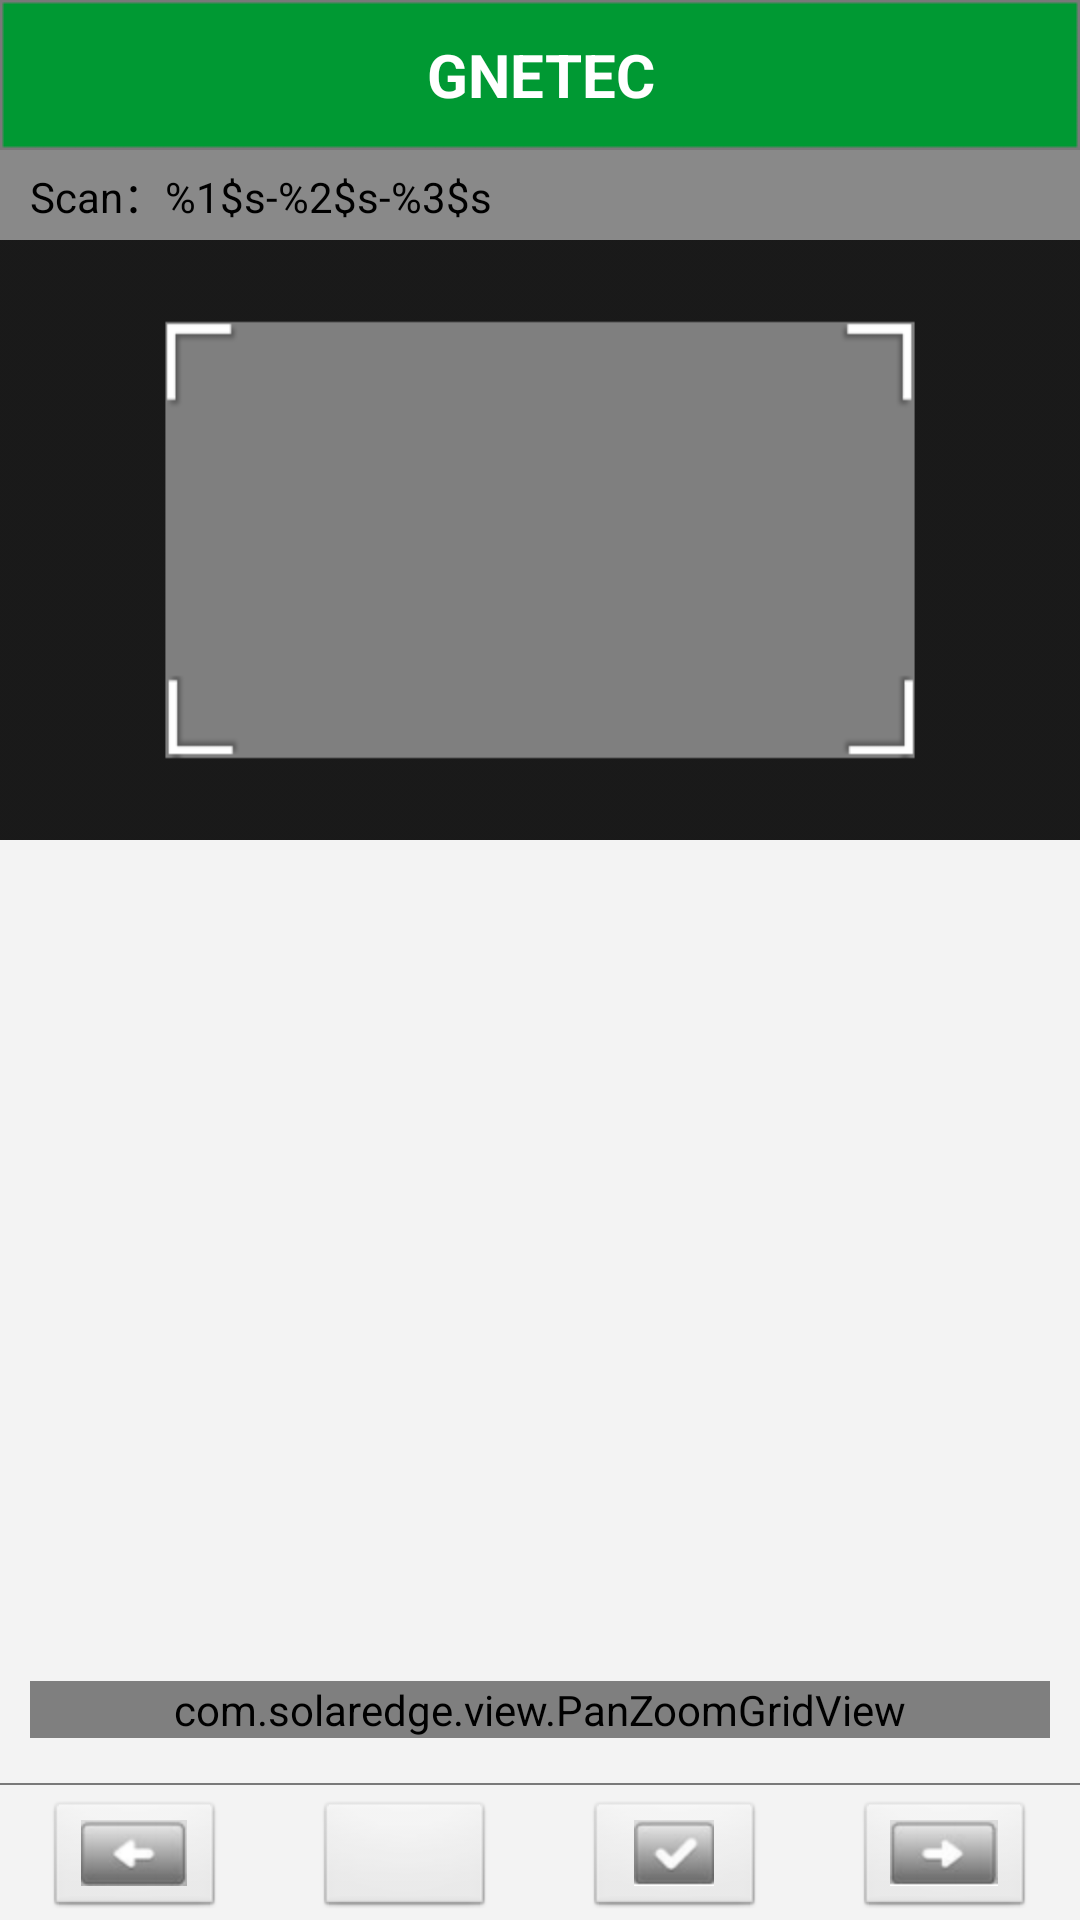

Screen size 1080*1920. Icon name, then its center in pixels as point (x, y):
next: point (944, 1856)
previous: point (134, 1856)
submit: point (674, 1856)
